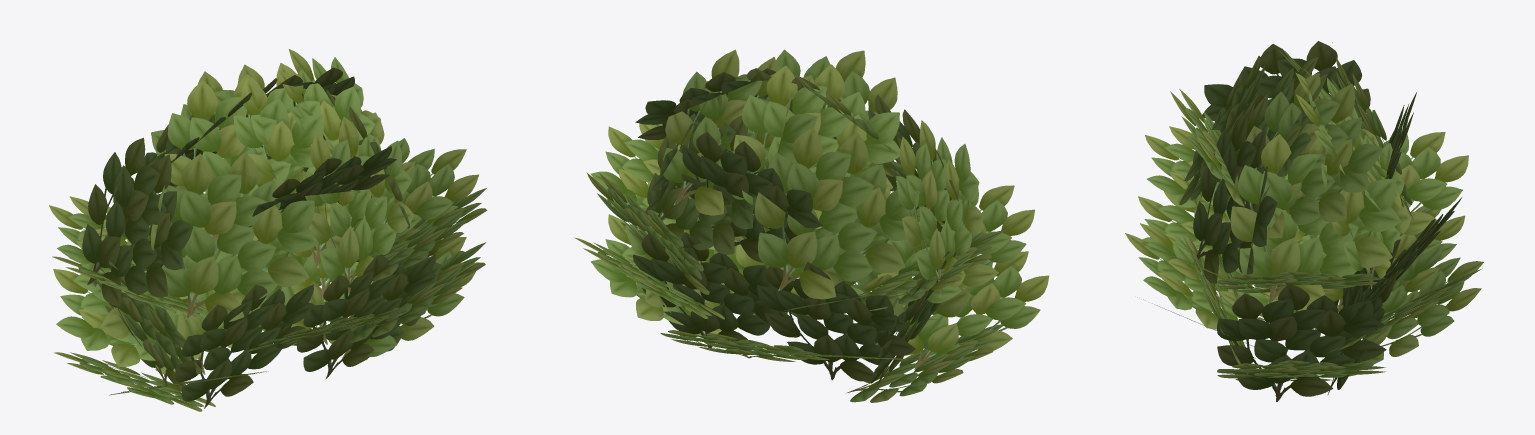
The model's file is Bush 1.fbx.
3 renders of one model, left to right at view 1: azimuth 30°, elevation 25°; view 2: azimuth 150°, elevation 25°; view 3: azimuth 270°, elevation 25°, orthographic.
Parts seen in each view (by area): view 1: BUSHES; view 2: BUSHES; view 3: BUSHES.
Part boxes in pixels (left/top/right/bottom): BUSHES: left=49, top=49, right=487, bottom=411; BUSHES: left=574, top=49, right=1049, bottom=402; BUSHES: left=1125, top=41, right=1483, bottom=401.
Size of the model in its own units: 0.1905 by 0.1391 by 0.1538.
1 material, 1 textured.
